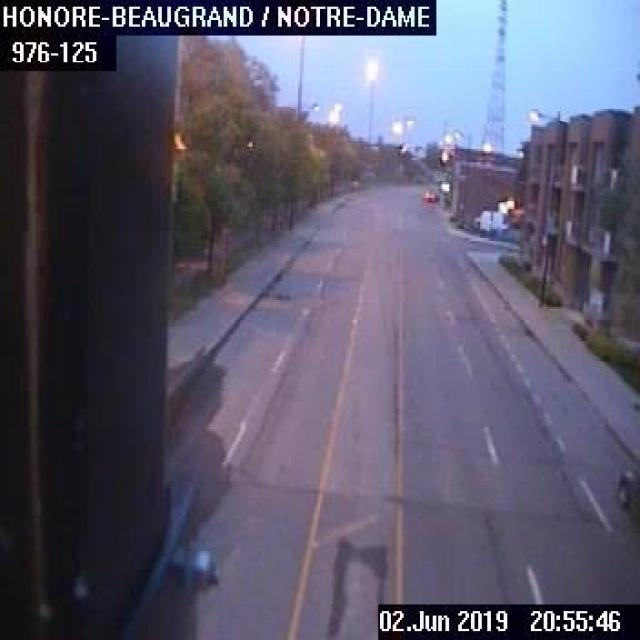vehicle: (615, 460, 638, 520), (419, 187, 436, 200)
